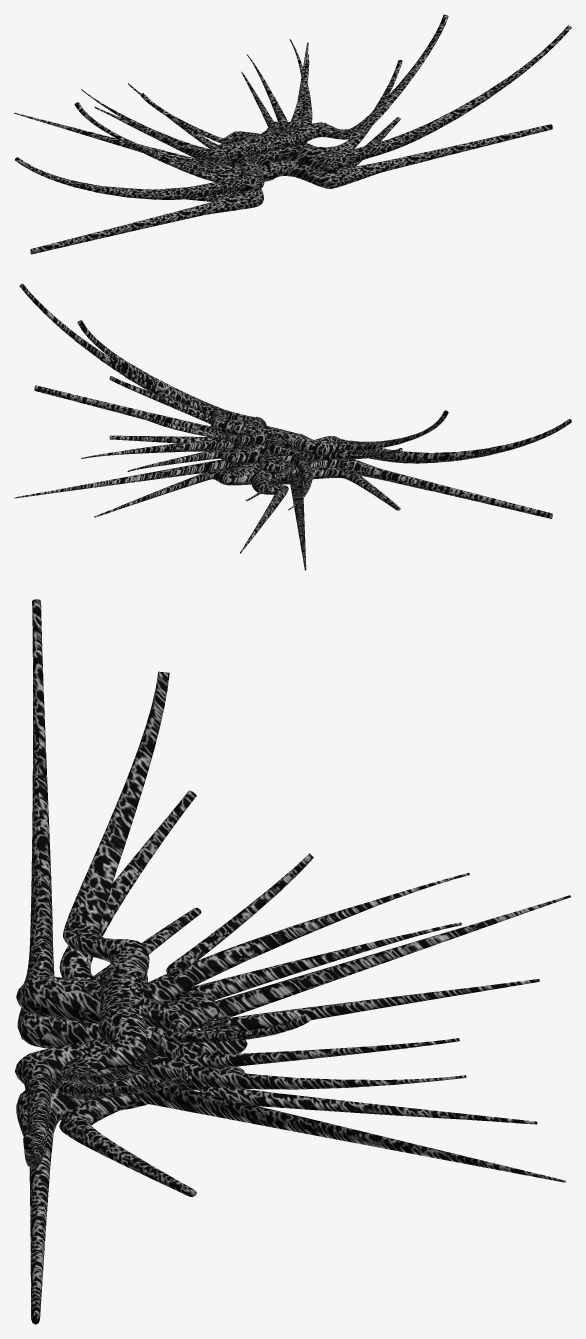
The model's file is Battlecrab.fbx.
3 renders of one model, top to bottom at view 1: azimuth 30°, elevation 25°; view 2: azimuth 150°, elevation 25°; view 3: azimuth 270°, elevation 25°, orthographic. The views are drawn at different scales.
Visible parts, largest first — view 1: Battlecrab; view 2: Battlecrab; view 3: Battlecrab.
Part boxes in pixels (box(x1,y1,x2,y2)): Battlecrab: box(14, 14, 571, 254); Battlecrab: box(14, 283, 571, 570); Battlecrab: box(15, 599, 570, 1324).
Size of the model in its own units: 1758 by 355 by 764.
Materials: 1 (1 with a texture image).
